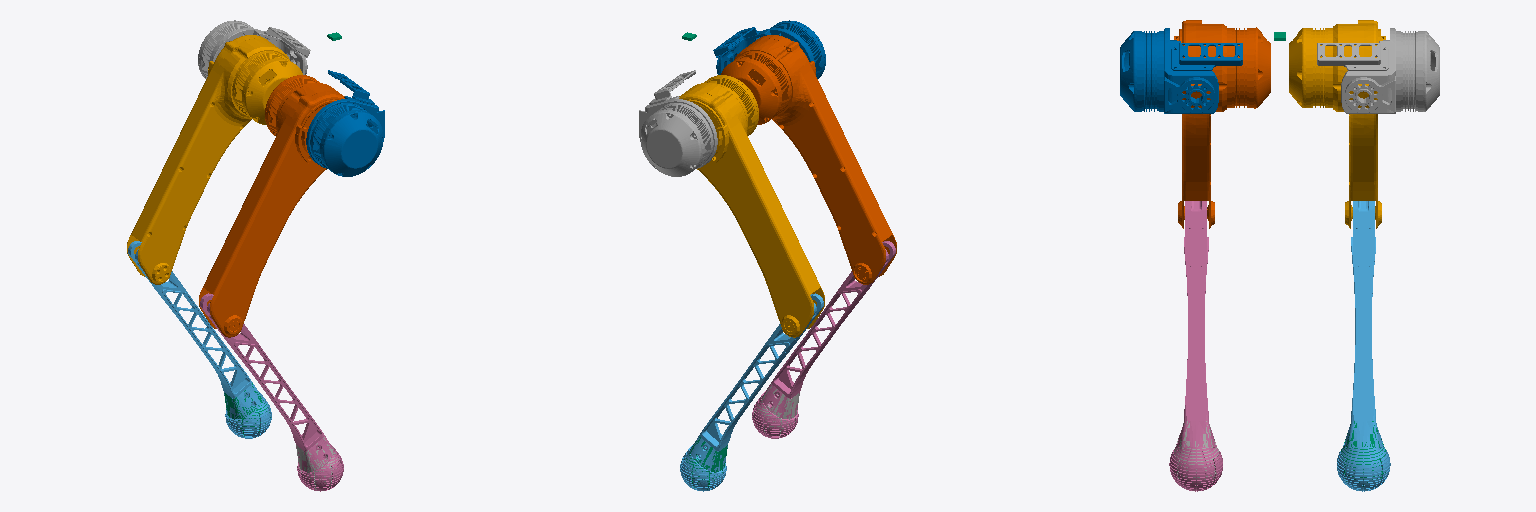
URDF robot description (point_foot):
<?xml version="1.0" ?>
<robot name="point_foot">
  <material name="black">
    <color rgba="0.0 0.0 0.0 1.0"/>
  </material>
  <material name="blue">
    <color rgba="0.0 0.0 0.8 1.0"/>
  </material>
  <material name="green">
    <color rgba="0.0 0.8 0.0 1.0"/>
  </material>
  <material name="grey">
    <color rgba="0.2 0.2 0.2 1.0"/>
  </material>
  <material name="silver">
    <color rgba="0.9137254901960784 0.9137254901960784 0.8470588235294118 1.0"/>
  </material>
  <material name="orange">
    <color rgba="1.0 0.4235294117647059 0.0392156862745098 1.0"/>
  </material>
  <material name="brown">
    <color rgba="0.8705882352941177 0.8117647058823529 0.7647058823529411 1.0"/>
  </material>
  <material name="red">
    <color rgba="0.8 0.0 0.0 1.0"/>
  </material>
  <material name="white">
    <color rgba="1.0 1.0 1.0 1.0"/>
  </material>
  <!-- ros_control plugin -->
  <gazebo>
    <plugin filename="libpointfoot_hw_sim.so" name="gazebo_ros_control">
      <robotNamespace>/</robotNamespace>
      <robotParam>point_foot_robot_description</robotParam>
      <robotSimType>pointfoot_gazebo/PointFootHWSim</robotSimType>
    </plugin>
  </gazebo>
  <gazebo>
    <plugin filename="libgazebo_ros_p3d.so" name="p3d_base_controller">
      <alwaysOn>true</alwaysOn>
      <updateRate>1000.0</updateRate>
      <bodyName>base</bodyName>
      <topicName>Odometry</topicName>
      <gaussianNoise>0</gaussianNoise>
      <frameName>world</frameName>
      <xyzOffsets>0 0 0</xyzOffsets>
      <rpyOffsets>0 0 0</rpyOffsets>
    </plugin>
  </gazebo>
  <gazebo reference="base">
    <maxVel>100.</maxVel>
    <self_collide>1</self_collide>
    <kp>10000.</kp>
    <kd>0.</kd>
  </gazebo>
<gazebo reference="stick_link">
    <mu1>0.2</mu1>
    <mu2>0.2</mu2>
    <material>Gazebo/White</material>
  </gazebo>
  <!-- LF leg -->
  <gazebo reference="abad_L">
    <mu1>0.2</mu1>
    <mu2>0.2</mu2>
    <self_collide>1</self_collide>
    <material>Gazebo/DarkGrey</material>
  </gazebo>
  <gazebo reference="hip_L">
    <mu1>0.2</mu1>
    <mu2>0.2</mu2>
    <self_collide>1</self_collide>
    <material>Gazebo/DarkGrey</material>
    <kp value="1000000.0"/>
    <kd value="1.0"/>
  </gazebo>
  <gazebo reference="knee_L">
    <mu1>0.2</mu1>
    <mu2>0.2</mu2>
    <self_collide>1</self_collide>
  </gazebo>
  <gazebo reference="foot_L">
    <mu1>0.6</mu1>
    <mu2>0.6</mu2>
    <self_collide>1</self_collide>
    <material>Gazebo/White</material>
    <kp value="1000000.0"/>
    <kd value="1.0"/>
  </gazebo>
  <gazebo reference="contact_L">
    <mu1>0.6</mu1>
    <mu2>0.6</mu2>
    <self_collide>1</self_collide>
    <material>Gazebo/White</material>
    <kp value="1000000.0"/>
    <kd value="1.0"/>
  </gazebo>
  <!-- RF leg -->
  <gazebo reference="abad_R">
    <mu1>0.2</mu1>
    <mu2>0.2</mu2>
    <self_collide>1</self_collide>
    <material>Gazebo/DarkGrey</material>
  </gazebo>
  <gazebo reference="hip_R">
    <mu1>0.2</mu1>
    <mu2>0.2</mu2>
    <self_collide>1</self_collide>
    <material>Gazebo/DarkGrey</material>
    <kp value="1000000.0"/>
    <kd value="1.0"/>
  </gazebo>
  <gazebo reference="knee_R">
    <mu1>0.2</mu1>
    <mu2>0.2</mu2>
    <self_collide>1</self_collide>
  </gazebo>
  <gazebo reference="foot_R">
    <mu1>0.6</mu1>
    <mu2>0.6</mu2>
    <self_collide>1</self_collide>
    <material>Gazebo/White</material>
    <kp value="1000000.0"/>
    <kd value="1.0"/>
  </gazebo>
  <gazebo reference="contact_R">
    <mu1>0.6</mu1>
    <mu2>0.6</mu2>
    <self_collide>1</self_collide>
    <material>Gazebo/White</material>
    <kp value="1000000.0"/>
    <kd value="1.0"/>
  </gazebo>

  <!-- Used for fixing robot to Gazebo 'base_link' -->
<link name="world"/>
<joint name="fixed" type="fixed">
  <origin rpy="0 0 0" xyz="0.0 0.0 0.1"/>
  <parent link="world"/>
  <child link="base"/>
</joint>
  
  <link name="base">
    <visual>
      <origin rpy="0 0 0" xyz="0 0 0"/>
      <geometry>
        <mesh filename="package://point_foot_robot_description/meshes/base_Link.STL"/>
      </geometry>
      <material name="">
        <color rgba="1 1 1 1"/>
      </material>
    </visual>
    <inertial>
      <origin rpy="0 0 0" xyz="-0.004 0.0 -0.008"/>
      <mass value="7.517"/>
      <inertia ixx="0.109557" ixy="-0.000005" ixz="0.025562" 
               iyy="0.072525" iyz="0.000009" izz="0.090606"/>
    </inertial>
  </link>
  <!-- Imu is fixed to the base link -->
  <joint name="limx_imu_joint" type="fixed">
    <origin rpy="0. 0. 0." xyz="0 0 0"/>
    <parent link="base"/>
    <child link="limx_imu"/>
  </joint>
  <!-- Imu link -->
  <link name="limx_imu">
    <inertial>
      <mass value="0.01"/>
      <origin rpy="0 0 0" xyz="0 0 0"/>
      <inertia ixx="0.000001" ixy="0" ixz="0" iyy="0.000001" iyz="0" izz="0.000001"/>
    </inertial>
    <visual>
      <origin rpy="0 0 0" xyz="0 0 0"/>
      <geometry>
        <box size="0.015 0.015 0.004"/>
      </geometry>
    </visual>
    <material name="orange">
      <color rgba="255 108 10 255"/>
    </material>
  </link>
  <gazebo reference="limx_imu">
    <material>Gazebo/Orange</material>
  </gazebo>
  <gazebo reference="limx_imu_joint">
    <disableFixedJointLumping>true</disableFixedJointLumping>
  </gazebo>

  <joint name="support_joint1" type="fixed">
       <origin rpy="0. 0. 0." xyz="0.2 0.15 -0.45"/>
       <parent link="base"/>
       <child link="support1"/>
   </joint>
   <link name="support1">
       <collision>
           <origin rpy="0 0 0" xyz="0 0 0"/>
           <geometry>
               <box size="0.015 0.015 0.004"/>
           </geometry>
       </collision>
   </link>
   <joint name="support_joint2" type="fixed">
       <origin rpy="0. 0. 0." xyz="-0.3 0.15 -0.45"/>
       <parent link="base"/>
       <child link="support2"/>
   </joint>
   <link name="support2">
       <collision>
           <origin rpy="0 0 0" xyz="0 0 0"/>
           <geometry>
               <box size="0.015 0.015 0.004"/>
           </geometry>
       </collision>
   </link>
   <joint name="support_joint3" type="fixed">
       <origin rpy="0. 0. 0." xyz="0.2 -0.15 -0.45"/>
       <parent link="base"/>
       <child link="support3"/>
   </joint>
   <link name="support3">
       <collision>
           <origin rpy="0 0 0" xyz="0 0 0"/>
           <geometry>
               <box size="0.015 0.015 0.004"/>
           </geometry>
       </collision>
   </link>
   <joint name="support_joint4" type="fixed">
       <origin rpy="0. 0. 0." xyz="-0.3 -0.15 -0.45"/>
       <parent link="base"/>
       <child link="support4"/>
   </joint>
   <link name="support4">
       <collision>
           <origin rpy="0 0 0" xyz="0 0 0"/>
           <geometry>
               <box size="0.015 0.015 0.004"/>
           </geometry>
       </collision>
   </link>

  <joint name="abad_L_joint" type="revolute">
    <origin rpy="0 0 0" xyz="0.001 0.099 -0.078"/>
    <parent link="base"/>
    <child link="abad_L"/>
    <axis xyz="1 0 0"/>
    <dynamics damping="0.05" friction="0.01"/>
    <limit effort="80.0" lower="-0.38397" upper="0.785398163" velocity="20.0"/>
  </joint>
  <link name="abad_L">
    <visual>
      <origin rpy="0 0 0" xyz="0 0 0"/>
      <geometry>
        <mesh filename="package://point_foot_robot_description/meshes/abad_L_Link.STL"/>
      </geometry>
      <material name=""/>
      <color rgba="0.79216 0.81961 0.93333 1"/>
    </visual>
    <inertial>
      <origin rpy="0 0 0" xyz="-0.065 0.047 0.0"/>
      <mass value="1.506"/>
      <inertia ixx="0.001528" ixy="0.000343" ixz="-0.000036" 
               iyy="0.001983" iyz="0.000041" izz="0.001925" />
    </inertial>
  </link>
  
  <joint name="hip_L_joint" type="revolute">
    <origin rpy="0 0 0" xyz="-0.08 0.019 0.0"/>
    <parent link="abad_L"/>
    <child link="hip_L"/>
    <axis xyz="0 1 0"/>
    <dynamics damping="0.05" friction="0.01"/>
    <limit effort="80.0" lower="-1.012291" upper="1.518436" velocity="20.0"/>
  </joint>
  <link name="hip_L">
    <visual>
      <origin rpy="0 0 0" xyz="0 0 0"/>
      <geometry>
        <mesh filename="package://point_foot_robot_description/meshes/hip_L_Link.STL" />
      </geometry>
      <material name=""/>
      <color rgba="0.79216 0.81961 0.93333 1"/>
    </visual>
    <inertial>
      <origin rpy="0 0 0" xyz="-0.025 -0.05 -0.0356"/>
      <mass value="2.1382"/>
      <inertia ixx="0.014469" ixy="0.001647" ixz="-0.007568" 
               iyy="0.018952" iyz="0.002308" izz="0.008104"/>
    </inertial>
  </link>

  <joint name="knee_L_joint" type="revolute">
    <origin rpy="0 0 0" xyz="-0.151 -0.019 -0.259"/>
    <parent link="hip_L"/>
    <child link="knee_L"/>
    <axis xyz="0 -1 0"/>
    <dynamics damping="0.05" friction="0.01"/>
    <limit effort="80" lower="-0.872665" upper="1.396263" velocity="20"/>
  </joint>
  <link name="knee_L">
    <visual>
      <origin rpy="0 0 0" xyz="0 0 0"/>
      <geometry>
        <mesh filename="package://point_foot_robot_description/meshes/knee_L_Link.STL" />
      </geometry>
      <material name=""/>
      <color rgba="0.79216 0.81961 0.93333 1"/>
    </visual>
    <collision>
      <origin rpy="0 0 0" xyz="0 0 0"/>
      <geometry>
        <sphere radius="0.03" />
      </geometry>
    </collision>
    <inertial>
      <origin rpy="0 0 0" xyz="0.0697 -0.002 0.046"/>
      <mass value="0.486"/>
      <inertia ixx="0.014195" ixy="0.000089" ixz="-0.000999" 
               iyy="0.016189" iyz="0.000245" izz="0.002054"/>
    </inertial>
  </link>

  <joint name="foot_L_joint" type="fixed">
    <origin rpy="0 0 0" xyz="0.15 0 -0.29066"/>
    <parent link="knee_L"/>
    <child link="foot_L"/>
    <axis xyz="0 0 0"/>
  </joint>
  <link name="foot_L">
    <visual>
      <origin rpy="0 0 0" xyz="0 0 0"/>
      <geometry>
        <mesh filename="package://point_foot_robot_description/meshes/foot_L_Link.STL"/>
      </geometry>
      <material name=""/>
      <color rgba="0.79216 0.81961 0.93333 1"/>
    </visual>
    <collision>
      <origin rpy="0 0 0" xyz="0 0 0.03"/>
      <geometry>
        <sphere radius="0.03" />
      </geometry>
    </collision>
    <inertial>
      <origin rpy="0 0 0" xyz="-0.00196 -1.0E-06 0.0383"/>
      <mass value="0.153"/>
      <inertia ixx="0.000084" ixy="0" ixz="0.000007" 
               iyy="0.000086" iyz="0" izz="0.000062"/>
    </inertial>
  </link>

  <link name="contact_L">
        <inertial>
            <origin xyz="-6.4629E-05 5.464E-05 0.0011936" rpy="0 0 0" />
            <mass value="1e-6" />
            <inertia ixx="1e-12" ixy="0" ixz="0" iyy="1e-12" iyz="0" izz="1e-12" />
        </inertial>
  </link>
  <joint name="contact_L_Joint" type="fixed">
      <origin xyz="0 0 0" rpy="0 0 0" />
      <parent link="foot_L" />
      <child link="contact_L" />
      <axis xyz="0 1 0" />
      <limit lower="-0" upper="0" effort="60" velocity="50" />
  </joint>
 
  <gazebo reference="foot_L_joint">
    <disableFixedJointLumping>true</disableFixedJointLumping>
  </gazebo>

  <gazebo reference="contact_L_Joint">
    <disableFixedJointLumping>true</disableFixedJointLumping>
  </gazebo>

  <transmission name="abad_L_tran">
    <type>transmission_interface/SimpleTransmission</type>
    <joint name="abad_L_joint">
      <hardwareInterface>hardware_interface/EffortJointInterface</hardwareInterface>
    </joint>
    <actuator name="abad_L_motor">
      <hardwareInterface>hardware_interface/EffortJointInterface</hardwareInterface>
      <mechanicalReduction>1</mechanicalReduction>
    </actuator>
  </transmission>
  <transmission name="hip_L_tran">
    <type>transmission_interface/SimpleTransmission</type>
    <joint name="hip_L_joint">
      <hardwareInterface>hardware_interface/EffortJointInterface</hardwareInterface>
    </joint>
    <actuator name="hip_L_motor">
      <hardwareInterface>hardware_interface/EffortJointInterface</hardwareInterface>
      <mechanicalReduction>1</mechanicalReduction>
    </actuator>
  </transmission>
  <transmission name="knee_L_tran">
    <type>transmission_interface/SimpleTransmission</type>
    <joint name="knee_L_joint">
      <hardwareInterface>hardware_interface/EffortJointInterface</hardwareInterface>
    </joint>
    <actuator name="knee_L_motor">
      <hardwareInterface>hardware_interface/EffortJointInterface</hardwareInterface>
      <mechanicalReduction>1</mechanicalReduction>
    </actuator>
  </transmission>

  <joint name="abad_R_joint" type="revolute">
    <origin rpy="0 0 0" xyz="0.001 -0.099 -0.078"/>
    <parent link="base"/>
    <child link="abad_R"/>
    <axis xyz="1 0 0"/>
    <dynamics damping="0.05" friction="0.01"/>
    <limit effort="80.0" lower="-1.39626" upper="0.785398163" velocity="20.0"/>
  </joint>
  <link name="abad_R">
    <visual>
      <origin rpy="0 0 0" xyz="0 0 0"/>
      <geometry>
        <mesh filename="package://point_foot_robot_description/meshes/abad_R_Link.STL"/>
      </geometry>
      <material name=""/>
      <color rgba="0.79216 0.81961 0.93333 1"/>
    </visual>
    <inertial>
      <origin rpy="0 0 0" xyz="-0.06850082 -0.04744926 0.00010940"/>
      <mass value="1.506"/>
      <inertia ixx="0.001528" ixy="-0.000343" ixz="-0.000036" 
               iyy="0.001983" iyz="-0.000041" izz="0.001925"/>
    </inertial>
  </link>

  <joint name="hip_R_joint" type="revolute">
    <origin rpy="0 0 0" xyz="-0.08 -0.019 0.0"/>
    <parent link="abad_R"/>
    <child link="hip_R"/>
    <axis xyz="0 -1 0"/>
    <dynamics damping="0.05" friction="0.01"/>
    <limit effort="80.0" lower="-1.518436" upper="1.012291" velocity="20.0"/>
  </joint>
  <link name="hip_R">
    <visual>
      <origin rpy="0 0 0" xyz="0 0 0"/>
      <geometry>
        <mesh filename="package://point_foot_robot_description/meshes/hip_R_Link.STL" />
      </geometry>
      <material name=""/>
      <color rgba="1 0.98039 0.6 1"/>
    </visual>
    <inertial>
      <origin rpy="0 0 0" xyz="-0.025184 0.05 -0.035614"/>
      <mass value="2.1382"/>
      <inertia ixx="0.014469" ixy="-0.001647" ixz="-0.007568" 
               iyy="0.018952" iyz="-0.002308" izz="0.008104"/>
    </inertial>
  </link>

  <joint name="knee_R_joint" type="revolute">
    <origin rpy="0 0 0" xyz="-0.151 0.019 -0.259"/>
    <parent link="hip_R"/>
    <child link="knee_R"/>
    <axis xyz="0 1 0"/>
    <dynamics damping="0.05" friction="0.01"/>
    <limit effort="80" lower="-1.396263" upper="0.872665" velocity="50"/>
  </joint>
  <link name="knee_R">
    <visual>
      <origin rpy="0 0 0" xyz="0 0 0"/>
      <geometry>
        <mesh filename="package://point_foot_robot_description/meshes/knee_R_Link.STL" />
      </geometry>
      <material name=""/>
      <color rgba="0.79216 0.81961 0.93333 1"/>
    </visual>
    <collision>
      <origin rpy="0 0 0" xyz="0 0 0"/>
      <geometry>
        <sphere radius="0.03" />
      </geometry>
    </collision>
    <inertial>
      <origin rpy="0 0 0" xyz="0.0697 0.002 0.046"/>
      <mass value="0.486"/>
      <inertia ixx="0.014195" ixy="-0.000089" ixz="-0.000999" 
               iyy="0.016189" iyz="-0.000245" izz="0.002054"/>
    </inertial>
  </link>

  <joint name="foot_R_joint" type="fixed"> 
    <origin rpy="0 0 0" xyz="0.15 0 -0.29066"/>
    <parent link="knee_R"/>
    <child link="foot_R"/>
    <axis xyz="0 0 0"/>
  </joint>
  <link name="foot_R">
    <visual>
      <origin rpy="0 0 0" xyz="0 0 0"/>
      <geometry>
        <mesh filename="package://point_foot_robot_description/meshes/foot_R_Link.STL"/>
      </geometry>
      <material name=""/>
      <color rgba="0.79216 0.81961 0.93333 1"/>
    </visual>
    <collision>
      <origin rpy="0 0 0" xyz="0 0 0.03"/>
      <geometry>
        <sphere radius="0.03" />
      </geometry>
    </collision>
    <inertial>
      <origin rpy="0 0 0" xyz="-0.00196 -1.0E-06 0.0383"/>
      <mass value="0.153"/>
      <inertia ixx="0.000084" ixy="0" ixz="0.000007" 
               iyy="0.000086" iyz="0" izz="0.000062"/>
    </inertial>
  </link>

  <link name="contact_R">
        <inertial>
            <origin xyz="-6.4629E-05 5.464E-05 0.0011936" rpy="0 0 0" />
            <mass value="1e-6" />
            <inertia ixx="1e-12" ixy="0" ixz="0" iyy="1e-12" iyz="0" izz="1e-12" />
        </inertial>
    </link>
    <joint name="contact_R_Joint" type="revolute">
        <origin xyz="0 0 0" rpy="0 0 0" />
        <parent link="foot_R" />
        <child link="contact_R" />
        <axis xyz="0 1 0" />
        <limit lower="-0" upper="0" effort="60" velocity="50" />
  </joint>

  <gazebo reference="contact_R_Joint">
    <disableFixedJointLumping>true</disableFixedJointLumping>
  </gazebo>
 
  <gazebo reference="foot_R_joint">
    <disableFixedJointLumping>true</disableFixedJointLumping>
  </gazebo>
  <transmission name="abad_R_tran">
    <type>transmission_interface/SimpleTransmission</type>
    <joint name="abad_R_joint">
      <hardwareInterface>hardware_interface/EffortJointInterface</hardwareInterface>
    </joint>
    <actuator name="abad_R_motor">
      <hardwareInterface>hardware_interface/EffortJointInterface</hardwareInterface>
      <mechanicalReduction>1</mechanicalReduction>
    </actuator>
  </transmission>
  <transmission name="hip_R_tran">
    <type>transmission_interface/SimpleTransmission</type>
    <joint name="hip_R_joint">
      <hardwareInterface>hardware_interface/EffortJointInterface</hardwareInterface>
    </joint>
    <actuator name="hip_R_motor">
      <hardwareInterface>hardware_interface/EffortJointInterface</hardwareInterface>
      <mechanicalReduction>1</mechanicalReduction>
    </actuator>
  </transmission>
  <transmission name="knee_R_tran">
    <type>transmission_interface/SimpleTransmission</type>
    <joint name="knee_R_joint">
      <hardwareInterface>hardware_interface/EffortJointInterface</hardwareInterface>
    </joint>
    <actuator name="knee_R_motor">
      <hardwareInterface>hardware_interface/EffortJointInterface</hardwareInterface>
      <mechanicalReduction>1</mechanicalReduction>
    </actuator>
  </transmission>
</robot>

--- What the picture shows (computed from the rendered views, not written in the file) ---
The picture shows the robot from 3 angles, left to right: view 1: azimuth 30°, elevation 25°; view 2: azimuth 150°, elevation 25°; view 3: azimuth 270°, elevation 25°; orthographic projection.
Model point_foot with 17 links and 16 joints (7 revolute, 9 fixed), rooted at world, posed all joints at 0.
Links seen in each view (by area): view 1: hip_L, hip_R, abad_R, knee_R, knee_L, abad_L; view 2: hip_R, hip_L, abad_L, knee_L, knee_R, abad_R; view 3: hip_R, hip_L, abad_L, abad_R, knee_R, knee_L.
Link boxes in pixels (x1=…): hip_L: x1=127, y1=35, x2=302, y2=284; hip_R: x1=199, y1=75, x2=344, y2=337; abad_R: x1=306, y1=70, x2=384, y2=176; knee_R: x1=200, y1=293, x2=343, y2=491; knee_L: x1=128, y1=241, x2=271, y2=438; abad_L: x1=198, y1=20, x2=310, y2=78; hip_R: x1=721, y1=35, x2=896, y2=284; hip_L: x1=679, y1=75, x2=824, y2=337; abad_L: x1=639, y1=70, x2=717, y2=176; knee_L: x1=680, y1=293, x2=823, y2=491; knee_R: x1=752, y1=241, x2=895, y2=438; abad_R: x1=713, y1=20, x2=825, y2=78; hip_R: x1=1174, y1=20, x2=1270, y2=228; hip_L: x1=1289, y1=20, x2=1385, y2=228; abad_L: x1=1317, y1=28, x2=1439, y2=113; abad_R: x1=1120, y1=28, x2=1242, y2=113; knee_R: x1=1169, y1=201, x2=1222, y2=491; knee_L: x1=1337, y1=201, x2=1390, y2=491.
Bounding box of the posed robot: 0.2725 × 0.3786 × 0.6308 m (x, y, z).
Meshes: 9 distinct files referenced, 8 mesh visuals loaded (8 binary STL); not drawn: 1 (reference not matched to a file when rendering).
